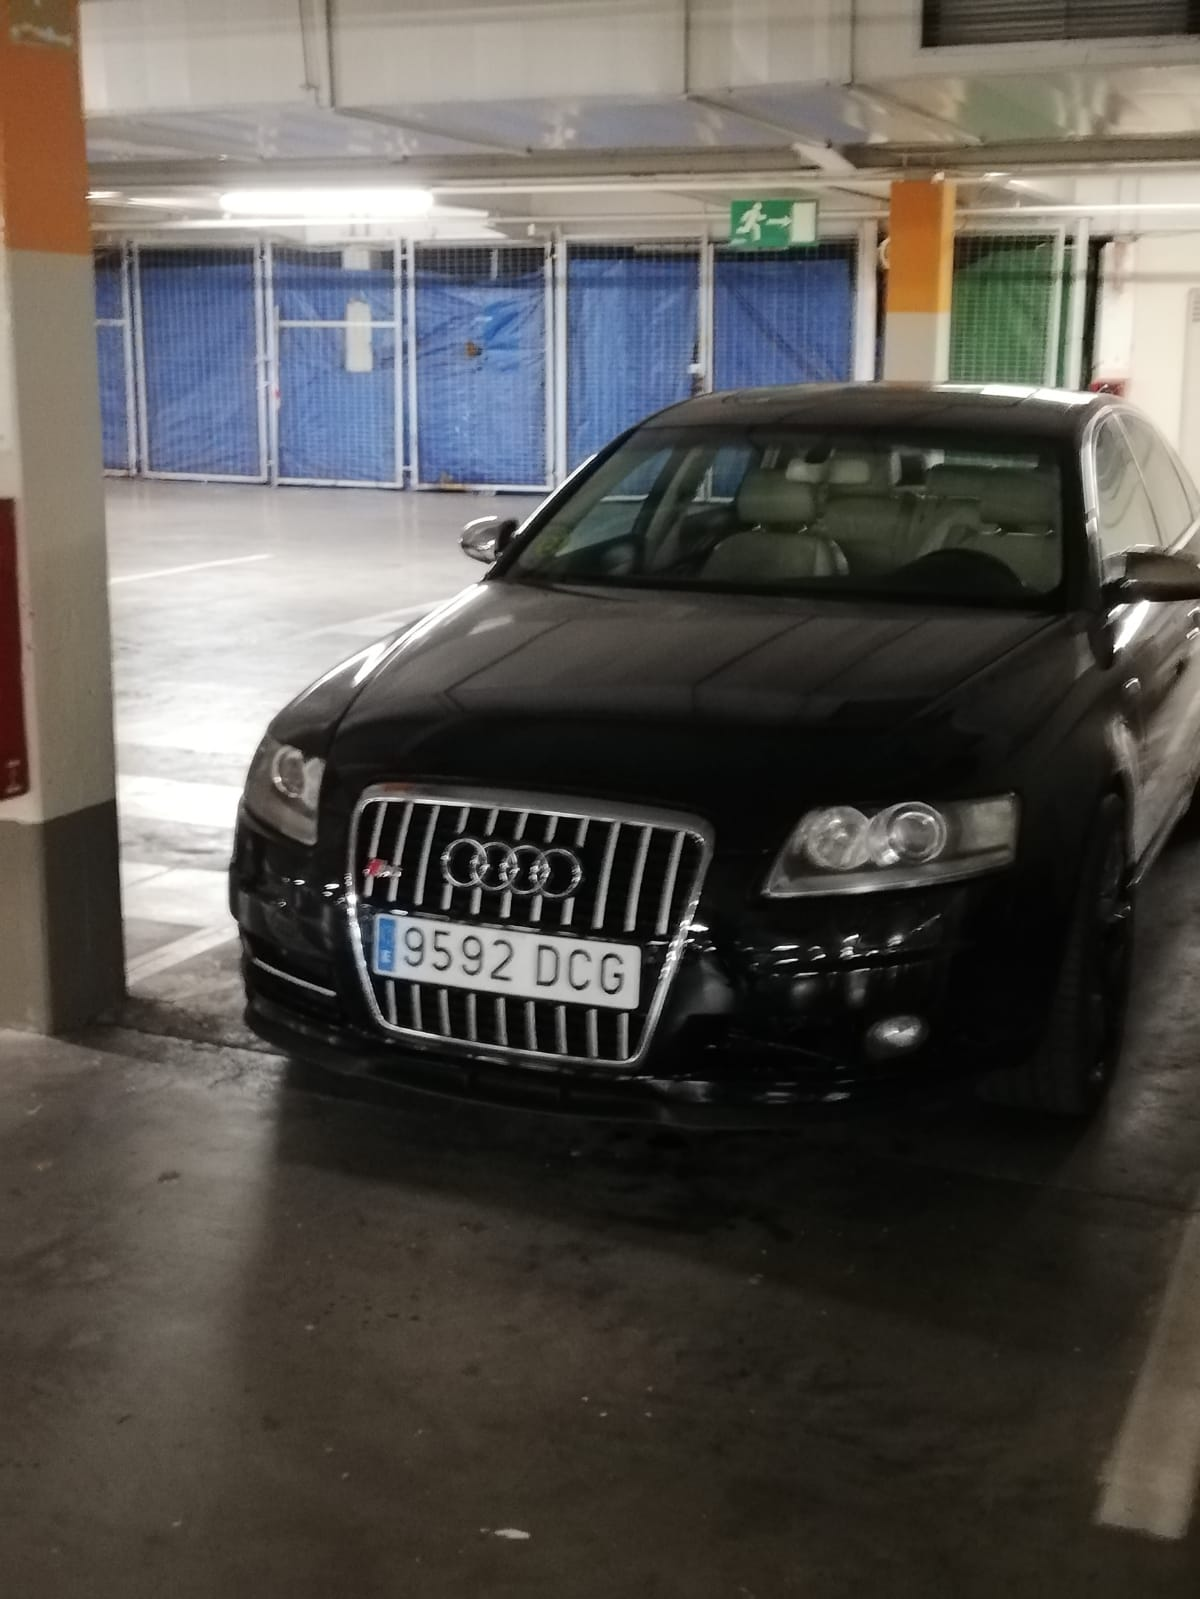Car: (226, 378, 1199, 1115)
Plate: (377, 909, 650, 975)
